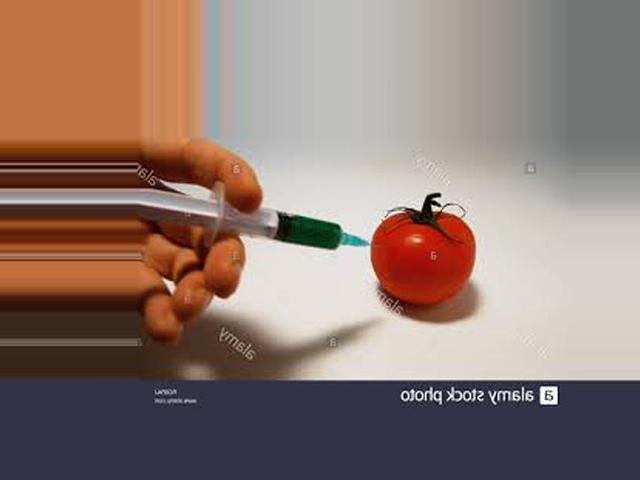tomato: (370, 211, 473, 304)
